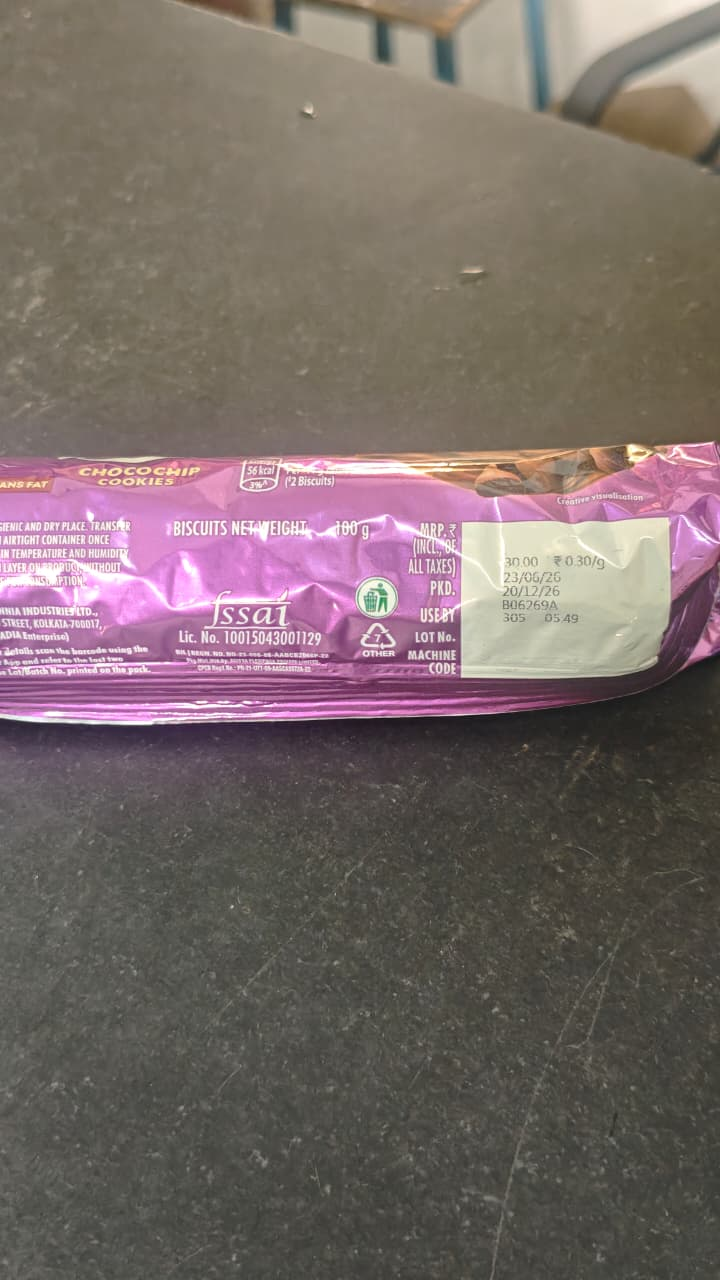EXP_Date: (501, 585, 562, 599)
MFG_Date: (499, 570, 564, 584)
MRP: (492, 553, 549, 569)
